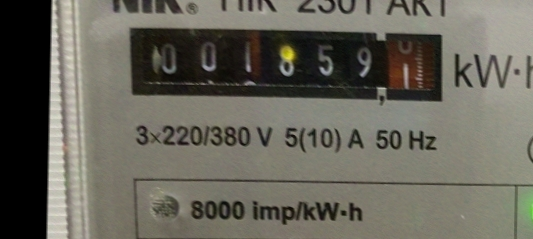0: (156, 41, 176, 77), (195, 40, 215, 74)
1: (239, 39, 251, 75), (396, 61, 409, 91)
5: (312, 42, 333, 78)
8: (274, 43, 294, 79)
9: (351, 45, 371, 80)
screen: (114, 16, 451, 113)
